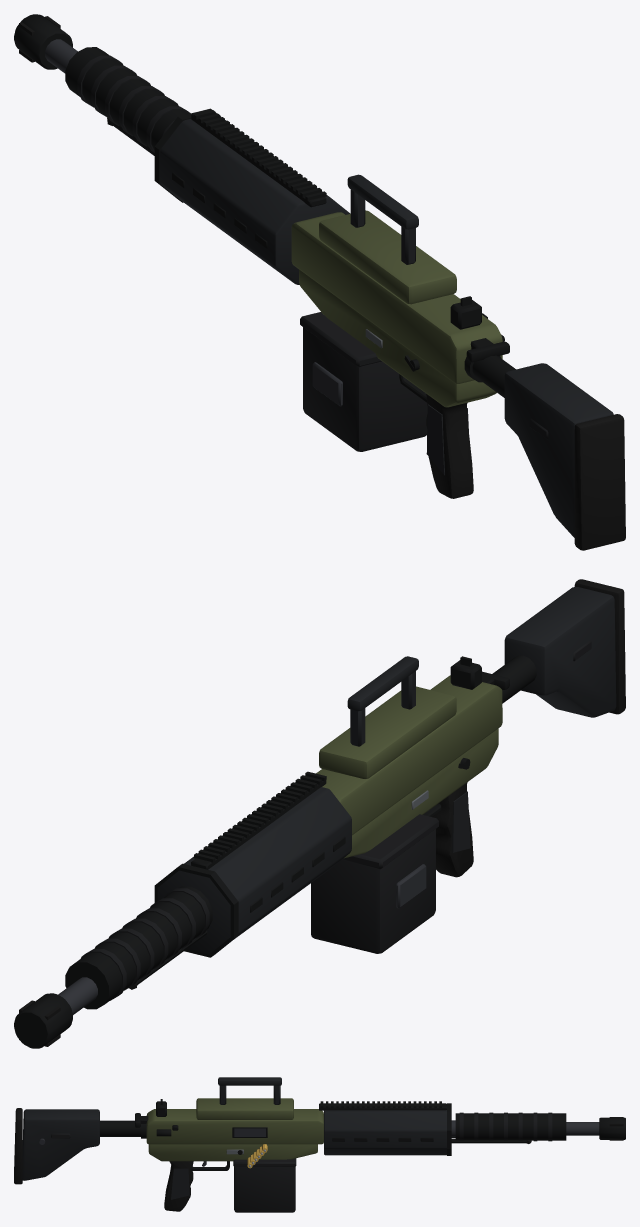
File: gun_09.glb
3 renders of one model, top to bottom at view 1: azimuth 30°, elevation 25°; view 2: azimuth 150°, elevation 25°; view 3: azimuth 270°, elevation 25°, orthographic. The views are drawn at different scales.
Parts seen in each view (by area): view 1: gun_09; view 2: gun_09; view 3: gun_09.
Part boxes in pixels (box(x1,y1,x2,y2)): gun_09: box(14, 14, 625, 550); gun_09: box(14, 579, 625, 1048); gun_09: box(14, 1077, 625, 1212).
Size of the model in its own units: 0.119 by 0.2943 by 1.24.
